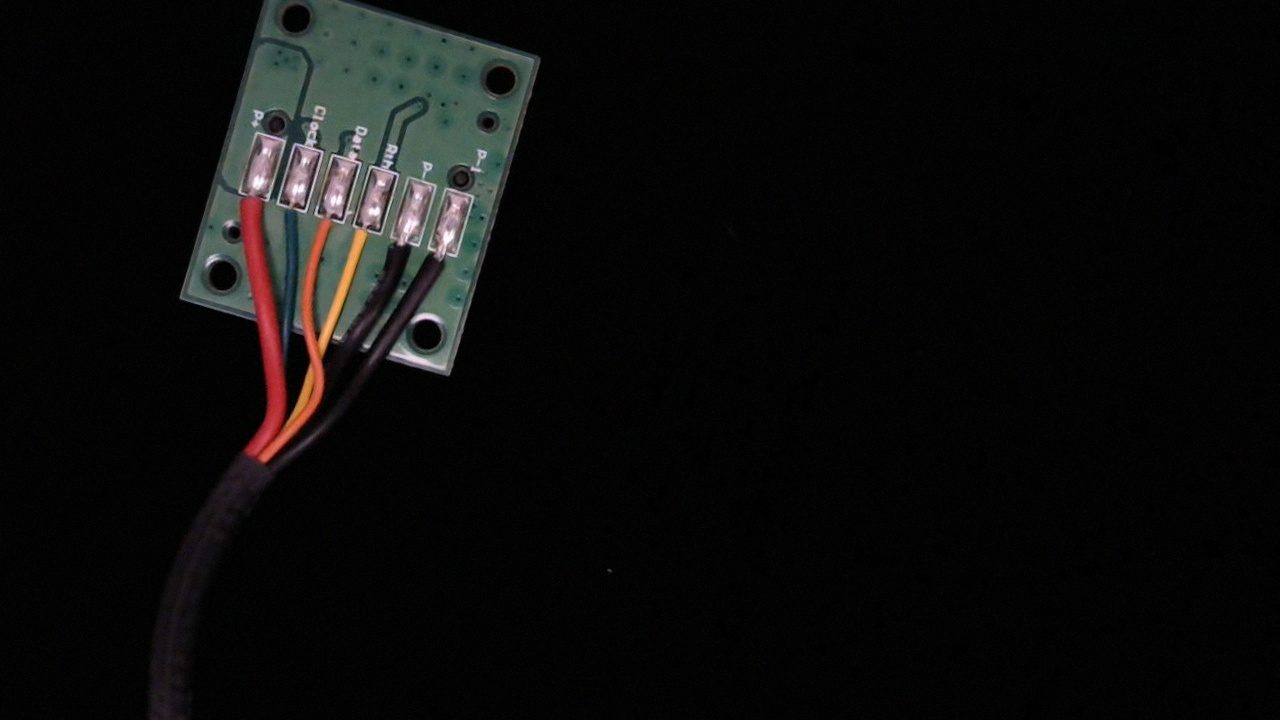Black: (377, 224, 422, 288)
Black1: (413, 235, 460, 299)
Green: (268, 190, 312, 250)
Orange: (303, 201, 346, 264)
Red: (222, 180, 273, 245)
Yellow: (339, 211, 383, 277)
